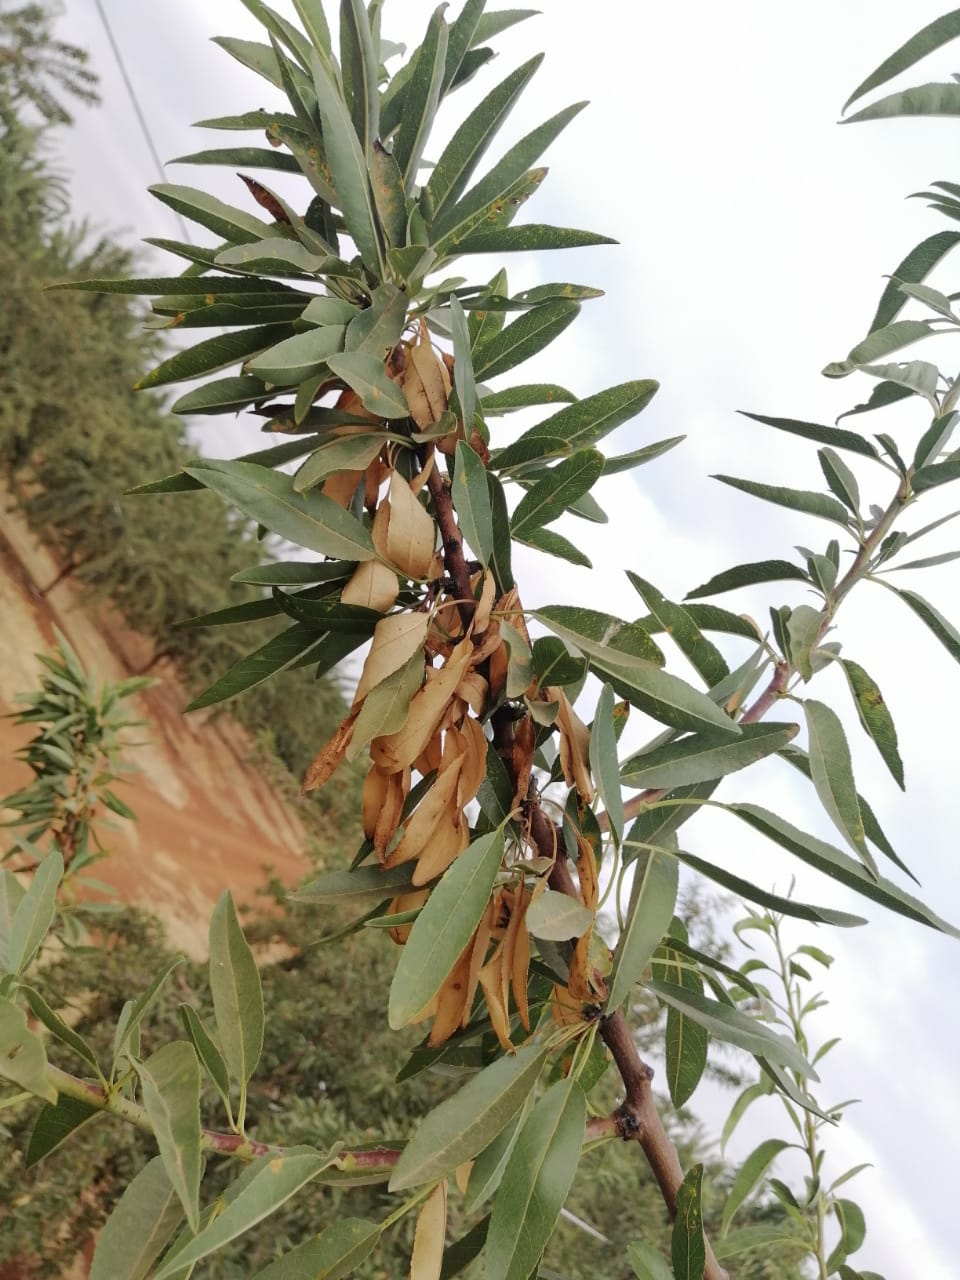scolytes: (305, 329, 629, 1056)
